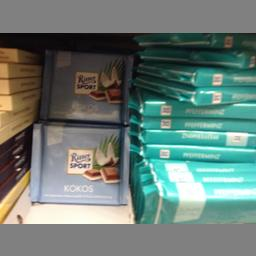chocolate: (28, 122, 126, 206), (36, 48, 130, 123)
